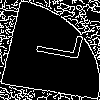L: (25, 25, 84, 62)
